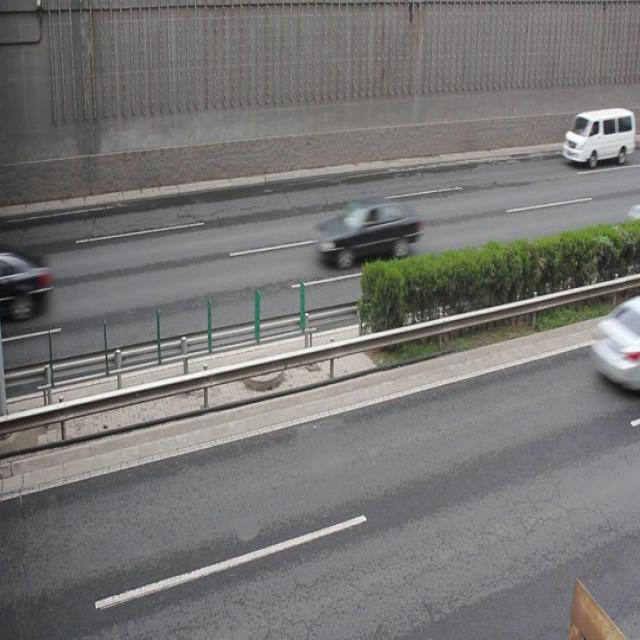car: (316, 199, 418, 266), (588, 307, 640, 381)
truck: (562, 106, 640, 168)
